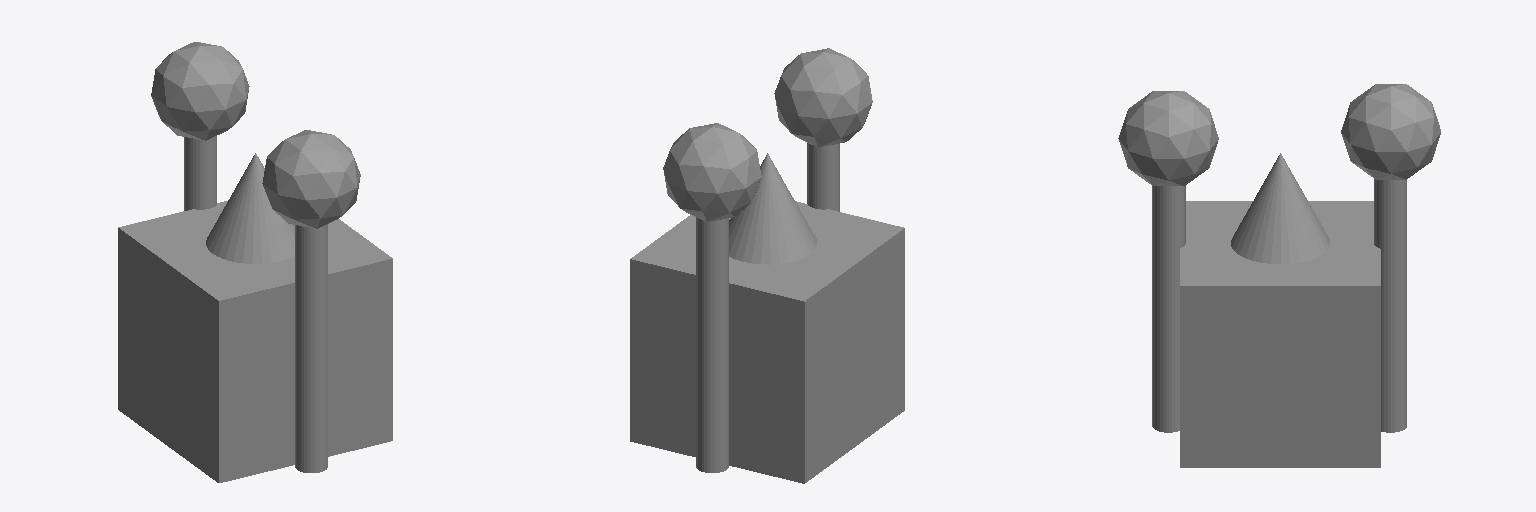
File: silly-cube.obj
3 renders of one model, left to right at view 1: azimuth 30°, elevation 25°; view 2: azimuth 150°, elevation 25°; view 3: azimuth 270°, elevation 25°, orthographic.
Parts seen in each view (by area): view 1: Cube_Cube.001; view 2: Cube_Cube.001; view 3: Cube_Cube.001.
Part boxes in pixels (x1,y1,x2,y2): Cube_Cube.001: (118,42,392,482); Cube_Cube.001: (630,48,904,483); Cube_Cube.001: (1118,84,1440,467).
Size of the model in its own units: 4 by 7.44 by 6.42.